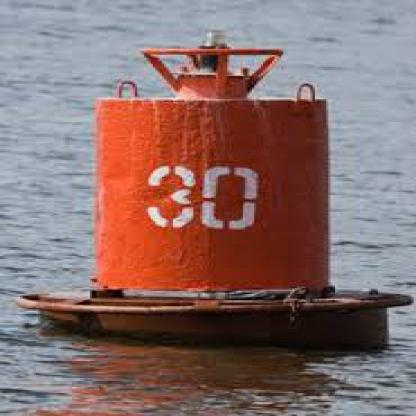buoy: (6, 26, 414, 358)
